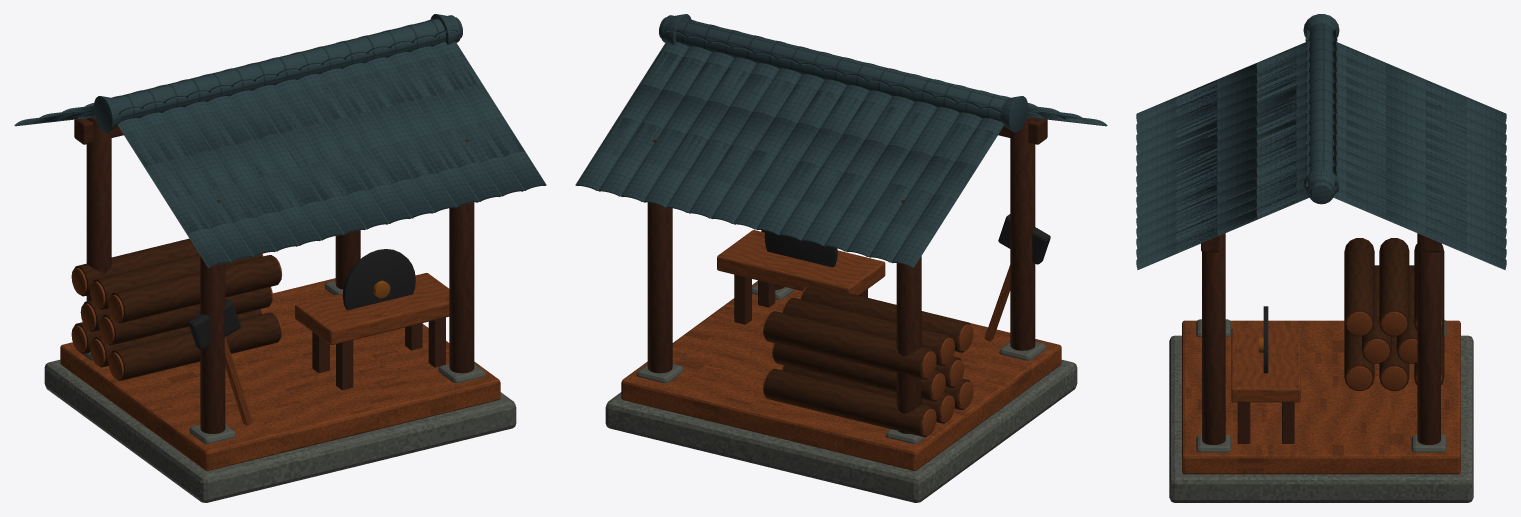
Rendered from building_lumber.glb.
The picture shows the model from 3 angles, left to right: view 1: azimuth 30°, elevation 25°; view 2: azimuth 150°, elevation 25°; view 3: azimuth 270°, elevation 25°; orthographic projection. The views are drawn at different scales.
Visible parts, largest first — view 1: TimberDeck, StonePad, RoofRidge.001, SawBenchTop, StackedLog.005, MortisedPost.002, StackedLog, MortisedPost, MortisedPost.001, SawBlade, StackedLog.003, StackedLog.006 (+64 smaller); view 2: TimberDeck, StonePad, RoofRidge.001, MortisedPost, SawBenchTop, StackedLog.007, StackedLog.002, MortisedPost.003, MortisedPost.001, StackedLog.004, StackedLog.005, StackedLog.006 (+62 smaller); view 3: TimberDeck, StonePad, SawBenchTop, MortisedPost.002, MortisedPost.003, RoofRidge.001, StackedLog.006, StackedLog.005, RoofTile.179, RoofTile.178, RoofTile.238, RoofTile.239 (+103 smaller).
Part boxes in pixels (x1,y1,x2,y2): TimberDeck: (60, 278, 500, 470); StonePad: (44, 360, 516, 502); RoofRidge.001: (112, 15, 460, 121); SawBenchTop: (295, 273, 449, 344); StackedLog.005: (111, 255, 280, 323); MortisedPost.002: (449, 139, 474, 373); StackedLog: (111, 312, 280, 380); MortisedPost: (200, 200, 225, 433); MortisedPost.001: (86, 117, 111, 301); SawBlade: (342, 249, 415, 310); StackedLog.003: (102, 287, 271, 345); StackedLog.006: (93, 254, 261, 309); TimberDeck: (621, 281, 1061, 470); StonePad: (605, 360, 1077, 502); RoofRidge.001: (661, 15, 1009, 121); MortisedPost: (1010, 117, 1035, 350); SawBenchTop: (717, 230, 885, 295); StackedLog.007: (764, 311, 933, 379); StackedLog.002: (764, 368, 933, 437); MortisedPost.003: (647, 139, 672, 373); MortisedPost.001: (896, 200, 921, 433); StackedLog.004: (773, 343, 942, 401); StackedLog.005: (801, 284, 970, 352); StackedLog.006: (783, 297, 951, 365); TimberDeck: (1182, 320, 1460, 474); StonePad: (1169, 335, 1473, 502); SawBenchTop: (1231, 328, 1300, 402); MortisedPost.002: (1202, 219, 1225, 444); MortisedPost.003: (1417, 219, 1440, 444); RoofRidge.001: (1308, 23, 1334, 204); StackedLog.006: (1379, 238, 1409, 336); StackedLog.005: (1344, 238, 1374, 336); RoofTile.179: (1136, 226, 1217, 269); RoofTile.178: (1176, 209, 1257, 253); RoofTile.238: (1385, 209, 1466, 253); RoofTile.239: (1425, 227, 1506, 269).
Bounding box in the file's own units: 2.45 × 2.34 × 2.34.
7 materials, 7 textured.
